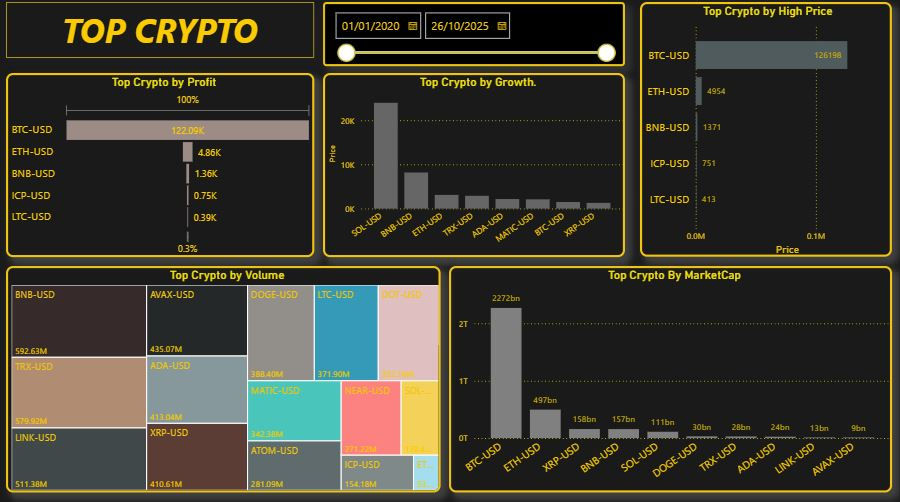

Layout of this report page (visuals, bound fields, positions):
{"tool":"powerbi","page":{"name":"Top CryptoCurrency","canvas":[1280,720],"ordinal":5},"visuals":[{"type":"slicer","fields":{"Values":["crypto_data.Date"]},"box":[461.9,8.4,428.3,90.7],"z":0},{"type":"clusteredColumnChart","title":"Top Crypto By MarketCap  ","fields":{"Category":["crypto_data.Ticker"],"Y":["Avg(crypto_data.MarketCap)"]},"box":[640.3,382.1,628.4,320.9],"z":1000},{"type":"treemap","title":"Top Crypto by Volume","fields":{"Group":["crypto_data.Ticker"],"Values":["Avg(crypto_data.Volume)"]},"box":[13.4,382.1,616.4,320.9],"z":2000},{"type":"shape","title":"STOCK MARKET","box":[13.4,8.4,436.7,79],"z":3000},{"type":"funnel","title":"Top Crypto by Profit","fields":{"Y":["crypto_data.Topp Profit/Loss"],"Category":["crypto_data.Ticker"]},"box":[13.4,109,437.3,261.2],"z":4000},{"type":"columnChart","title":"Top Crypto by Growth.","fields":{"Y":["crypto_data.Prices Growth %"],"Category":["crypto_data.Ticker"]},"box":[462.7,109,428.4,261.2],"z":5000},{"type":"barChart","title":"Top Crypto by High Price","fields":{"Y":["Max(crypto_data.High)"],"Category":["crypto_data.Ticker"]},"box":[911.9,9,356.7,361.2],"z":6000}]}

Visuals, with their boxes in screenshot pixels (x1, y1, x2, y2), scaled from the page's 1280x720 canvas onto the 900x502 screenshot:
slicer - crypto_data.Date: rect(325, 6, 626, 69)
"Top Crypto By MarketCap  " clusteredColumnChart: rect(450, 266, 892, 490)
"Top Crypto by Volume" treemap: rect(9, 266, 443, 490)
"STOCK MARKET" shape: rect(9, 6, 316, 61)
"Top Crypto by Profit" funnel: rect(9, 76, 317, 258)
"Top Crypto by Growth." columnChart: rect(325, 76, 627, 258)
"Top Crypto by High Price" barChart: rect(641, 6, 892, 258)
